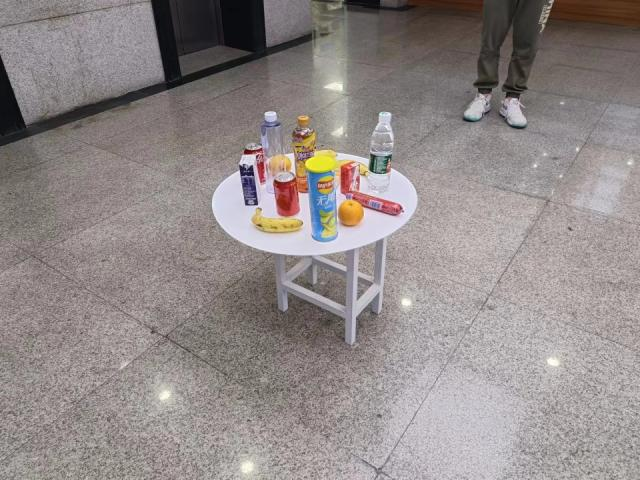Canned_drinks: (273, 171, 302, 217), (242, 142, 266, 186)
bottle: (260, 111, 288, 194), (369, 110, 395, 193)
cylinder: (305, 155, 340, 243)
drink_box: (238, 153, 263, 205), (341, 161, 362, 195)
